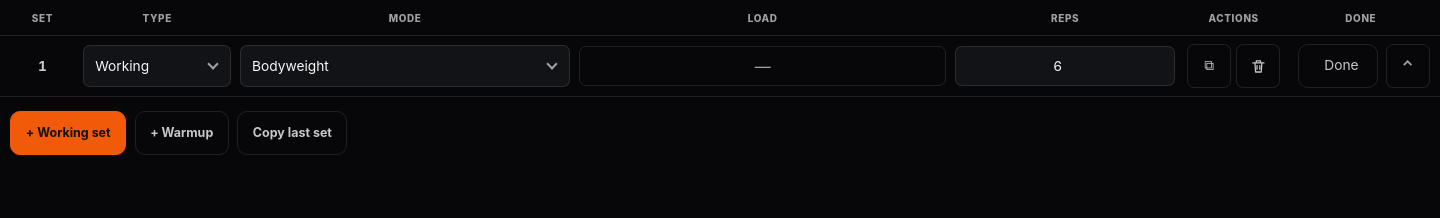
Test case: WorkoutSetList › keeps Added weight but hides Assisted for plyometric exercises
Click the dropdown named "Set 1 bodyweight mode": (290, 66) [240,45,570,87]
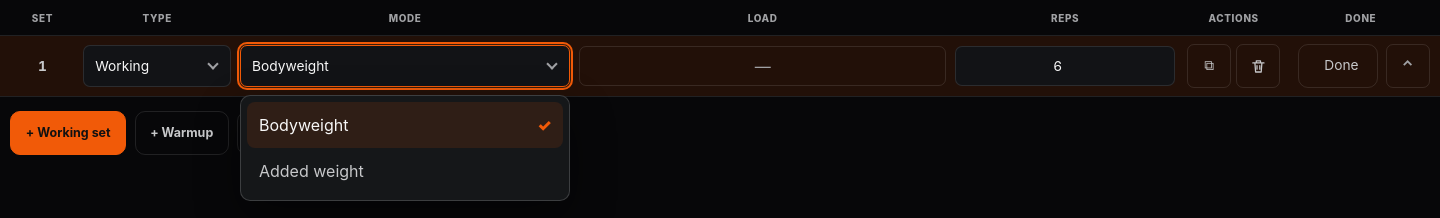
Check: the option "Bodyweight ✓" is shown, box [247,102,563,148]
Check: the option "Added weight" is shown, box [247,148,563,194]
